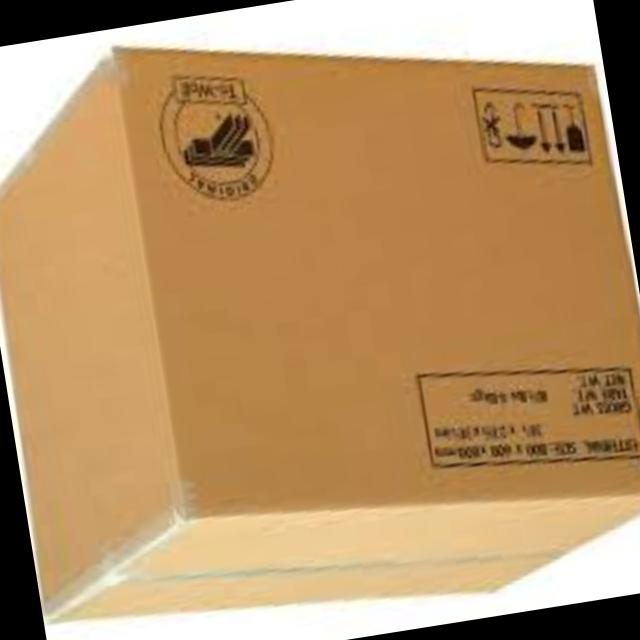cardboard paper: (0, 56, 640, 623)
